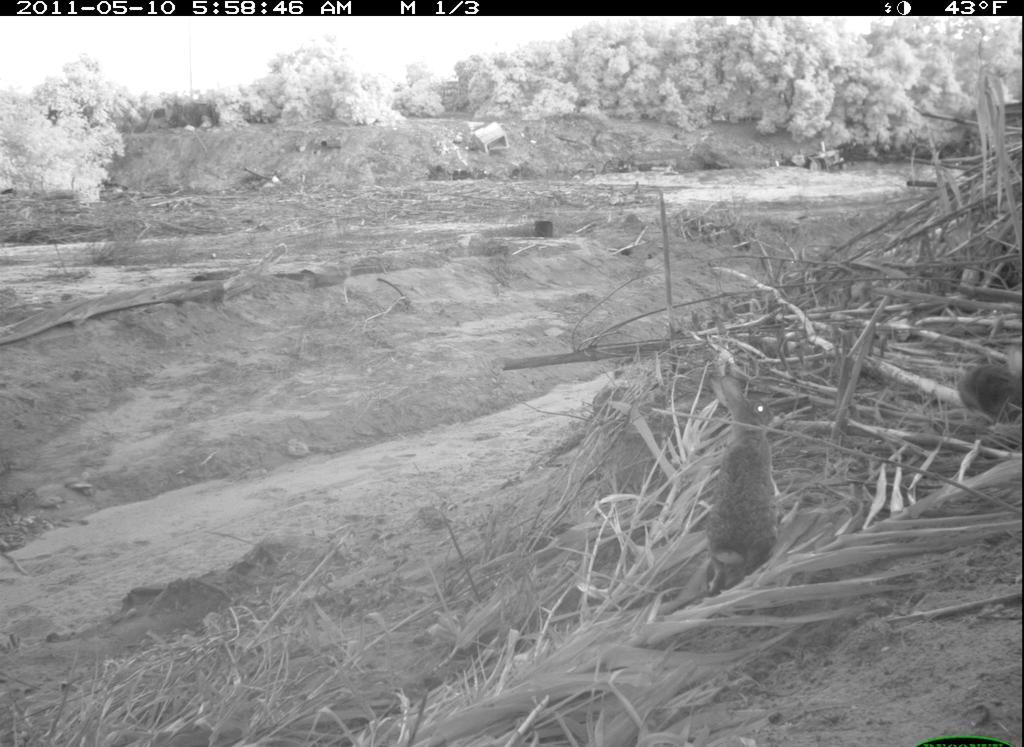rabbit: (693, 355, 795, 601)
